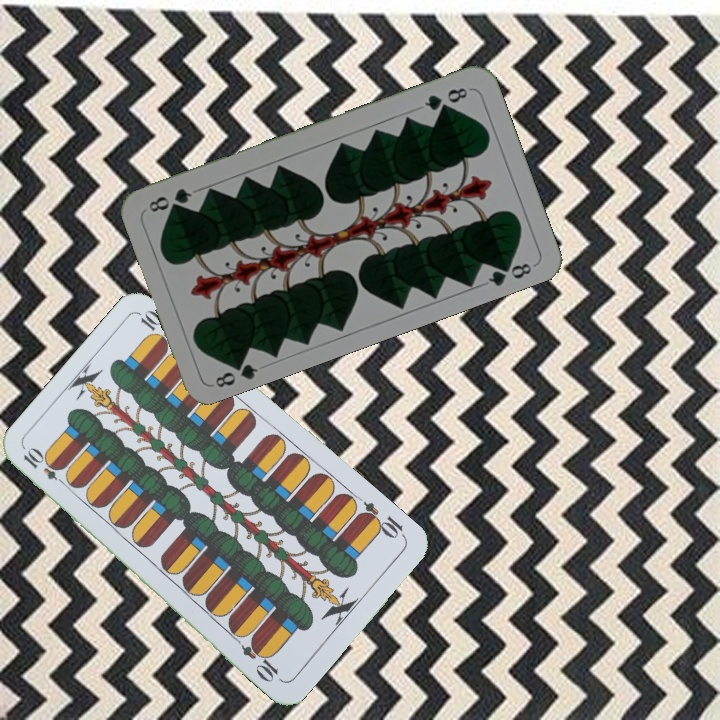E10: (354, 497, 409, 542), (19, 444, 71, 490)
G8: (211, 354, 260, 391), (420, 83, 471, 113)
